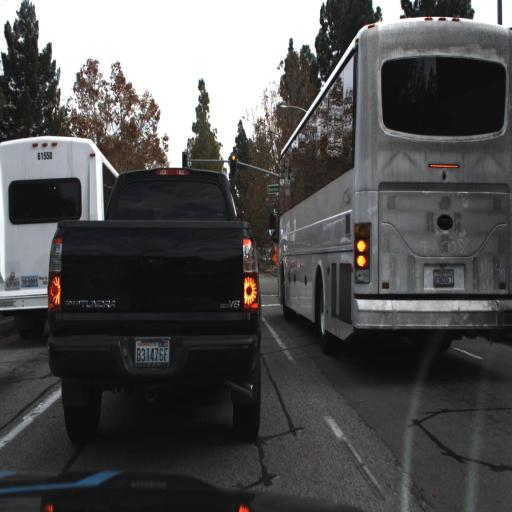car: (52, 172, 257, 432)
trafficLight: (181, 150, 188, 172), (229, 154, 236, 176)
trafficLight-Red: (228, 152, 237, 176)
truck: (275, 22, 511, 358), (0, 133, 109, 342)
